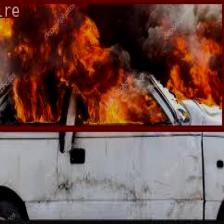fire: (0, 0, 224, 129)
